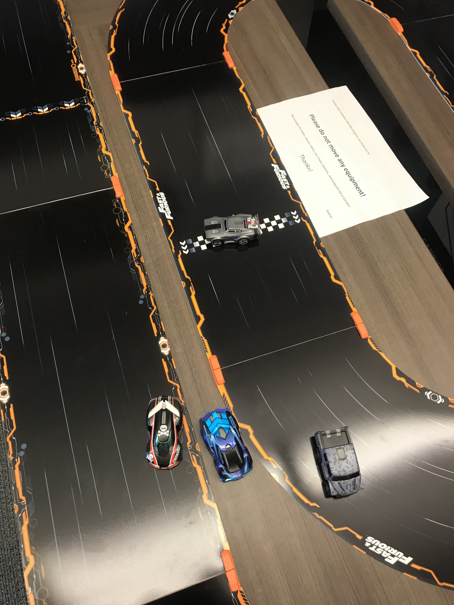Charger: (206, 211, 256, 243)
Finish Line: (181, 210, 303, 254)
MXT: (313, 425, 363, 500)
Shock: (199, 408, 254, 483)
Skull: (145, 395, 186, 470)
